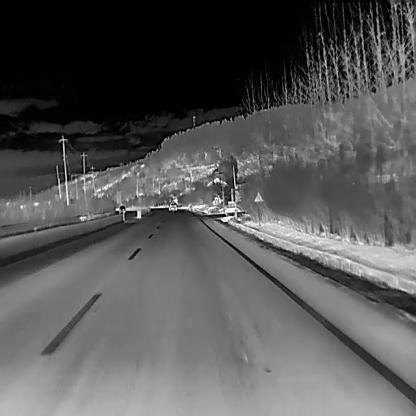car: (117, 203, 125, 215), (167, 200, 176, 210)
